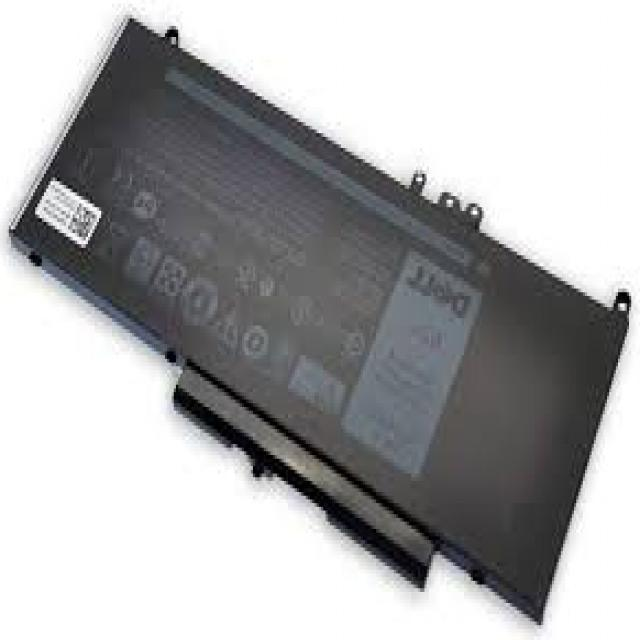battery: (6, 12, 630, 630)
